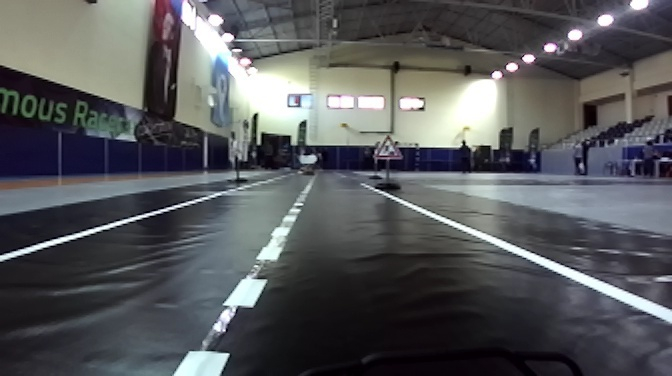yol_yapimi: (371, 130, 402, 159)
